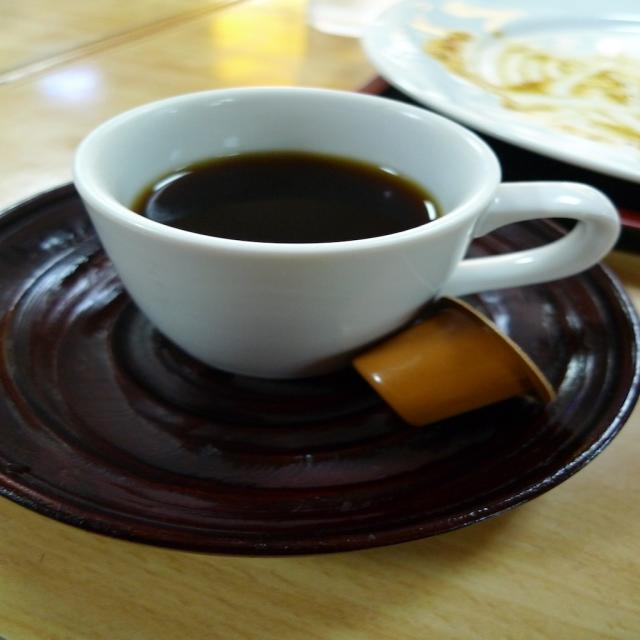Coffee: (133, 150, 448, 242)
Tea: (132, 151, 439, 244)
